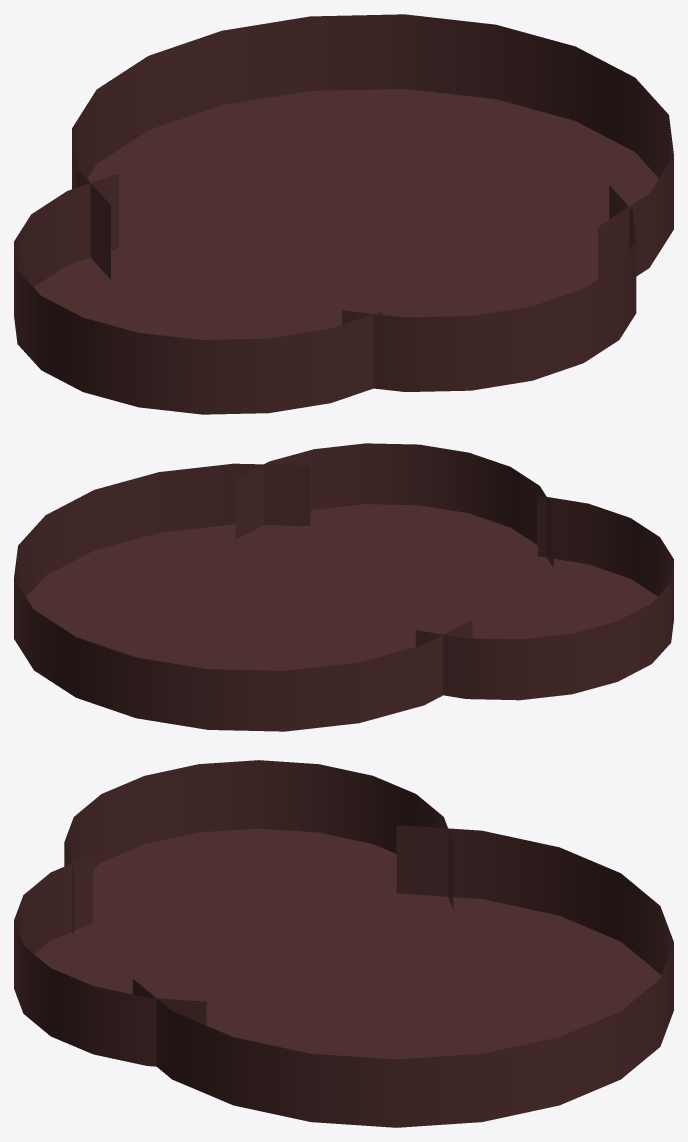
File: WineSpot.fbx
The picture shows the model from 3 angles, top to bottom: view 1: azimuth 30°, elevation 25°; view 2: azimuth 150°, elevation 25°; view 3: azimuth 270°, elevation 25°; orthographic projection. The views are drawn at different scales.
Visible parts, largest first — view 1: pCylinder4; view 2: pCylinder4; view 3: pCylinder4.
Boxes of the visible parts, left/top/right/bottom form: pCylinder4: left=14, top=14, right=673, bottom=414; pCylinder4: left=14, top=443, right=673, bottom=731; pCylinder4: left=14, top=760, right=673, bottom=1127.
Bounding box in the file's own units: 3.64 × 0.3878 × 3.39.
